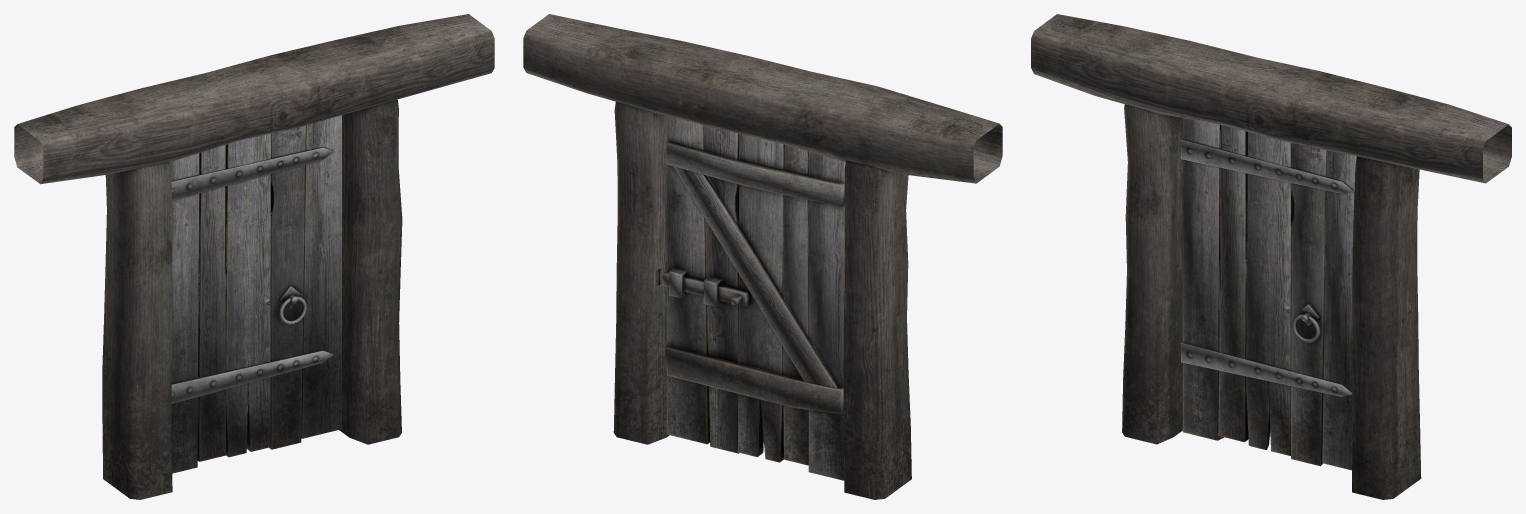
Rendered from portal_door.glb.
3 views of the same model, side by side, from view 1: azimuth 30°, elevation 25°; view 2: azimuth 150°, elevation 25°; view 3: azimuth 330°, elevation 25° (orthographic).
Parts seen in each view (by area): view 1: S_FrameDoor_01, S_Door_01; view 2: S_FrameDoor_01, S_Door_01; view 3: S_FrameDoor_01, S_Door_01.
Part boxes in pixels (x1,y1,x2,y2): S_FrameDoor_01: [14, 14, 494, 499]; S_Door_01: [170, 115, 341, 473]; S_FrameDoor_01: [523, 14, 1002, 499]; S_Door_01: [662, 116, 845, 480]; S_FrameDoor_01: [1031, 14, 1511, 499]; S_Door_01: [1181, 118, 1356, 470].
Size of the model in its own units: 300 by 242 by 49.42.
1 material, 1 textured.
